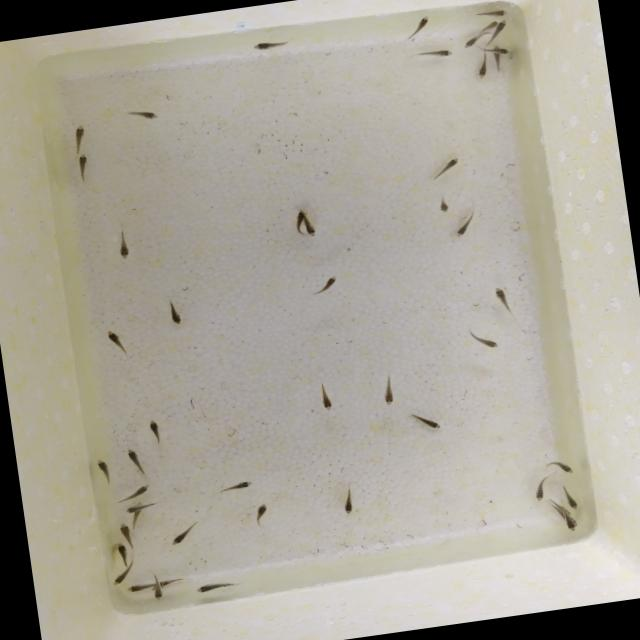fingerling: (461, 326, 507, 354), (428, 156, 463, 184), (490, 284, 520, 316), (308, 273, 346, 297), (249, 34, 294, 54), (103, 326, 131, 358), (112, 226, 134, 264), (93, 454, 117, 488), (452, 212, 481, 240), (126, 104, 164, 125), (411, 411, 445, 434), (168, 522, 200, 546), (218, 478, 260, 496), (416, 44, 454, 63), (124, 446, 148, 476), (542, 457, 576, 478), (378, 374, 398, 409), (408, 13, 436, 38), (315, 382, 337, 413), (145, 416, 167, 447), (338, 484, 359, 516), (192, 578, 234, 594), (163, 299, 187, 327), (72, 152, 94, 181), (560, 486, 582, 514), (120, 484, 154, 502), (70, 122, 90, 150), (558, 513, 582, 536), (476, 6, 510, 22), (116, 522, 138, 544), (252, 502, 272, 526), (290, 208, 306, 237), (474, 58, 493, 82), (482, 44, 512, 59), (124, 502, 156, 516), (460, 32, 486, 49), (149, 578, 167, 602), (532, 482, 551, 502), (434, 196, 453, 216), (110, 568, 131, 586), (124, 582, 150, 596), (304, 220, 322, 240), (116, 542, 132, 564), (492, 20, 511, 37)
